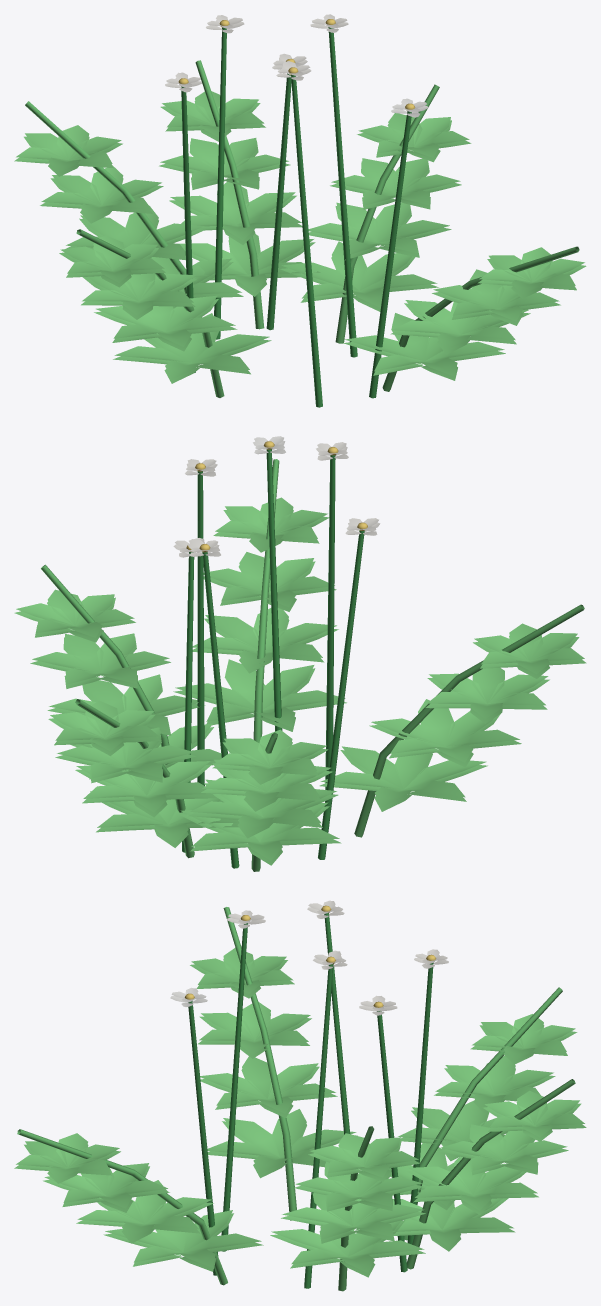
The model's file is ing_sweet_woodruff.gltf.
The picture shows the model from 3 angles, top to bottom: view 1: azimuth 30°, elevation 25°; view 2: azimuth 150°, elevation 25°; view 3: azimuth 270°, elevation 25°; orthographic projection. The views are drawn at different scales.
Visible parts, largest first — view 1: ing_sweet_woodruff; view 2: ing_sweet_woodruff; view 3: ing_sweet_woodruff.
Boxes of the visible parts, <box> form: ing_sweet_woodruff: <box>14,14,586,407</box>; ing_sweet_woodruff: <box>14,436,586,871</box>; ing_sweet_woodruff: <box>14,900,586,1291</box>.
Size of what is drawn, in the model's own units: 0.356 by 0.2468 by 0.3894.
